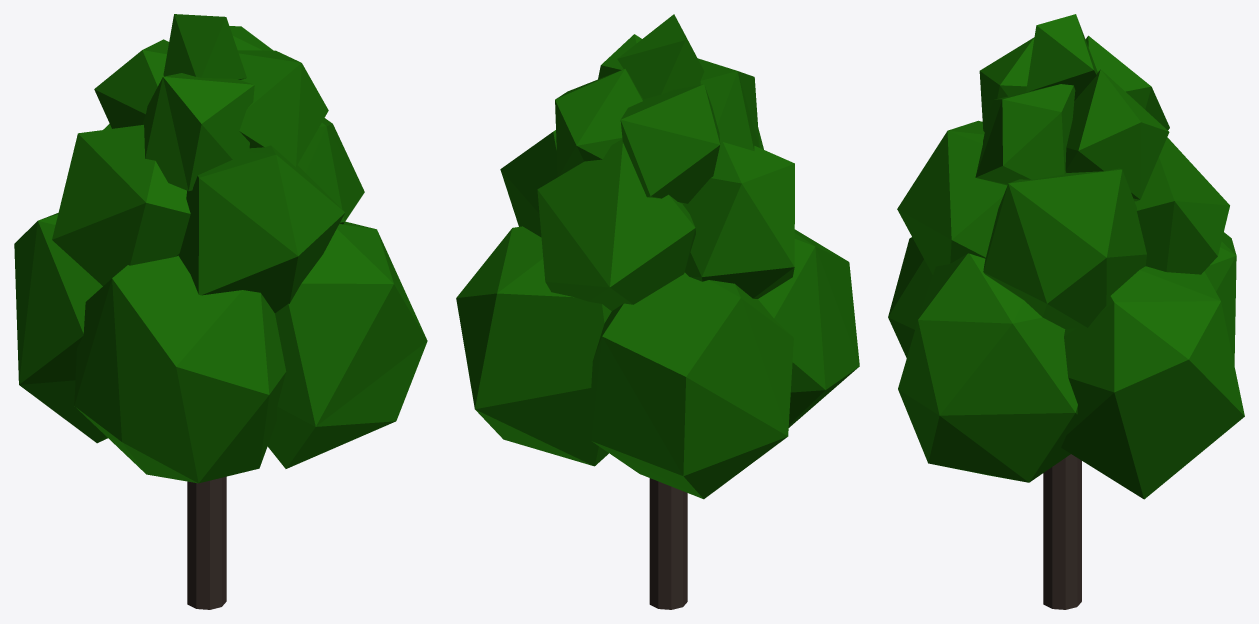
File: tree.glb
The picture shows the model from 3 angles, left to right: view 1: azimuth 30°, elevation 25°; view 2: azimuth 150°, elevation 25°; view 3: azimuth 270°, elevation 25°; orthographic projection. The views are drawn at different scales.
Visible parts, largest first — view 1: Simple_Tree_8; view 2: Simple_Tree_8; view 3: Simple_Tree_8.
Boxes of the visible parts, x1,y1,x2,y2 form: Simple_Tree_8: (14, 14, 427, 609); Simple_Tree_8: (456, 14, 859, 609); Simple_Tree_8: (888, 14, 1244, 609).
Bounding box in the file's own units: 4.52 × 7.93 × 4.43.
